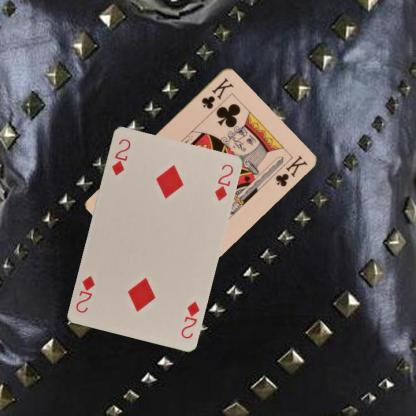2d: (108, 136, 132, 177), (178, 298, 200, 340)
Kc: (198, 74, 235, 110)
